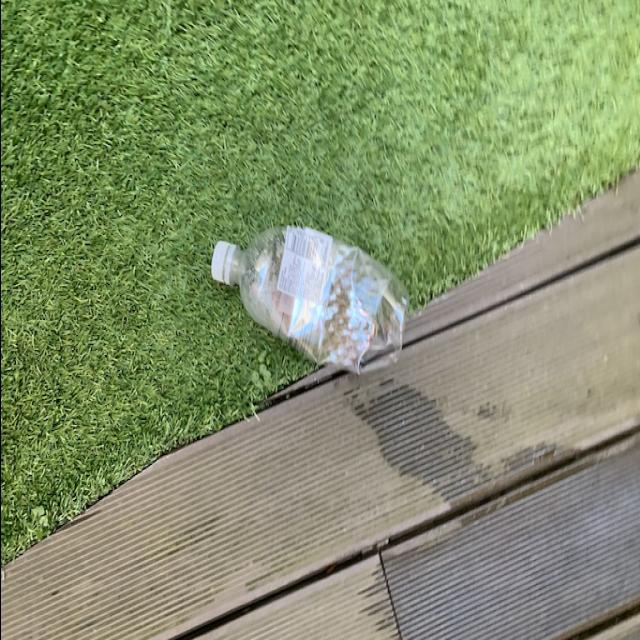litter: (210, 220, 407, 374)
